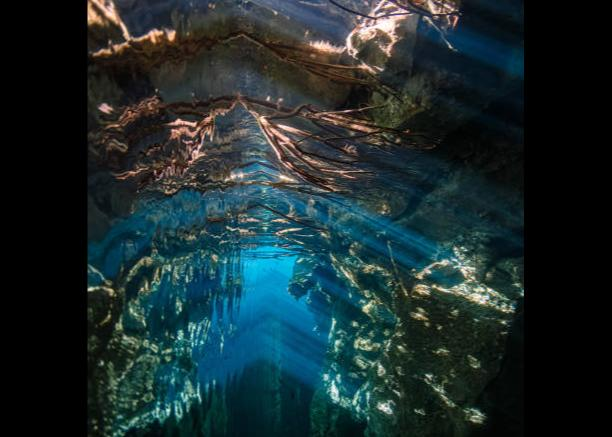Non_Gorille: (113, 0, 515, 398)
